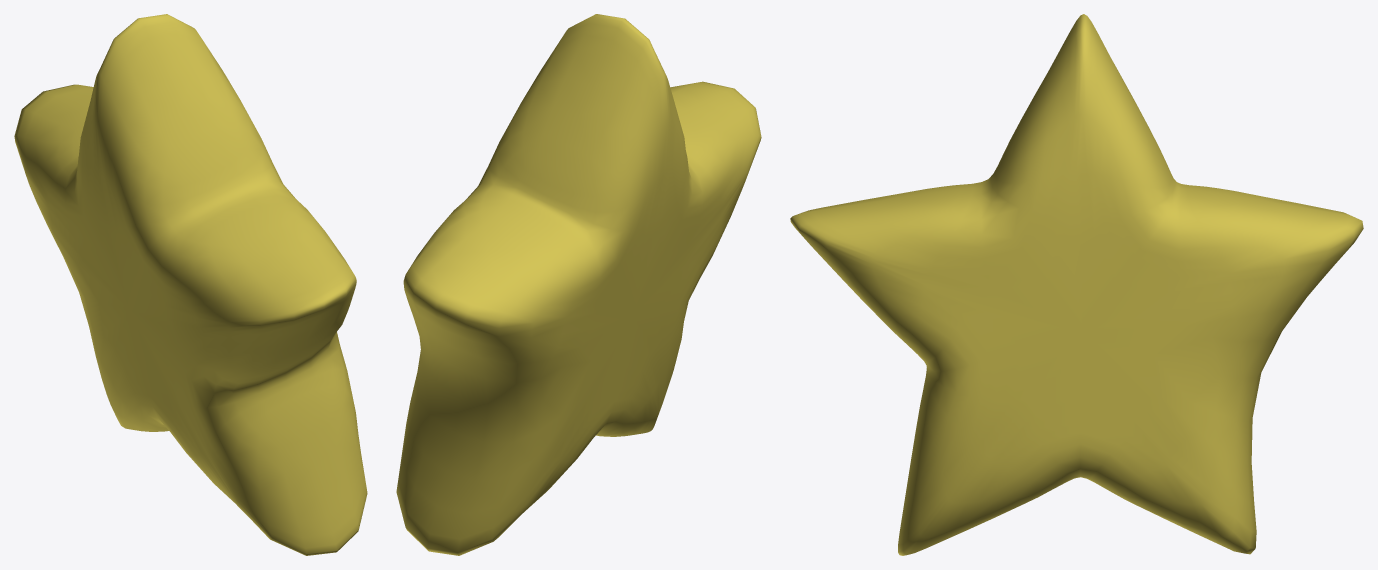
Rendered from Star_Sus_Parcasi.fbx.
3 views of the same model, side by side, from view 1: azimuth 30°, elevation 25°; view 2: azimuth 150°, elevation 25°; view 3: azimuth 270°, elevation 25° (orthographic).
Visible parts, largest first — view 1: P_Star.014; view 2: P_Star.014; view 3: P_Star.014.
Part boxes in pixels (x1=…): P_Star.014: x1=14, y1=14, x2=367, y2=555; P_Star.014: x1=396, y1=14, x2=761, y2=555; P_Star.014: x1=790, y1=14, x2=1363, y2=555.
Bounding box in the file's own units: 0.1399 × 0.3317 × 0.3511.
